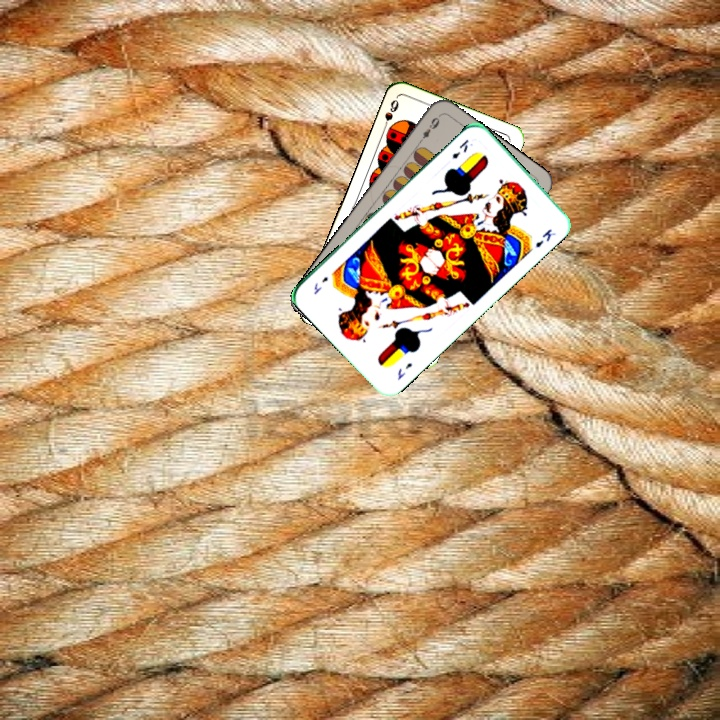E9: (414, 113, 442, 147)
EK: (448, 136, 471, 162), (393, 359, 415, 382)
S9: (379, 95, 401, 133)
